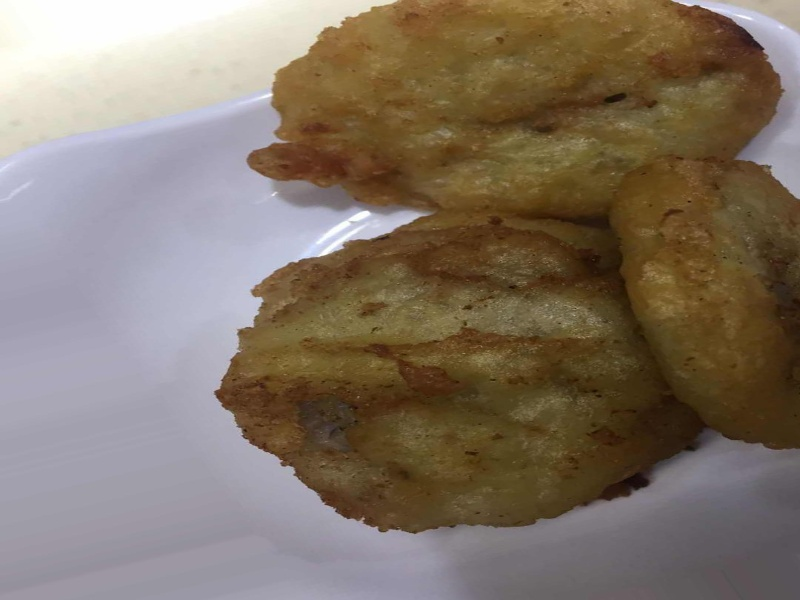patato: (212, 4, 800, 535)
